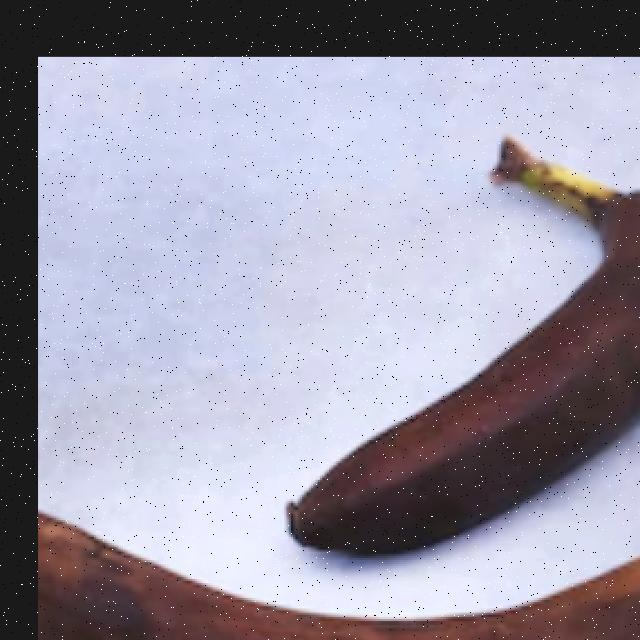Rotten: (255, 110, 640, 568), (9, 482, 640, 640)
